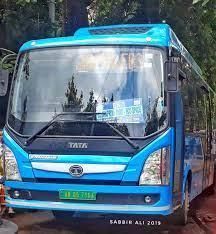Bus: (2, 24, 209, 213)
